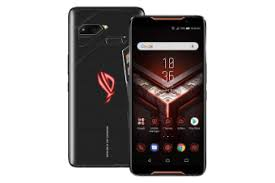asus: (126, 11, 210, 178), (63, 5, 147, 172)
